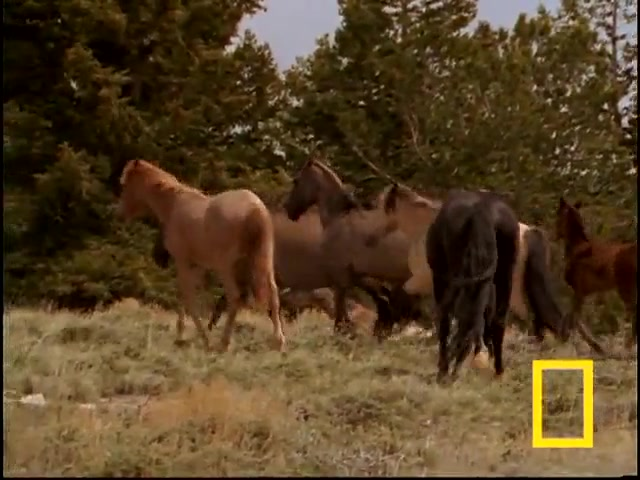horse: (114, 154, 287, 357)
